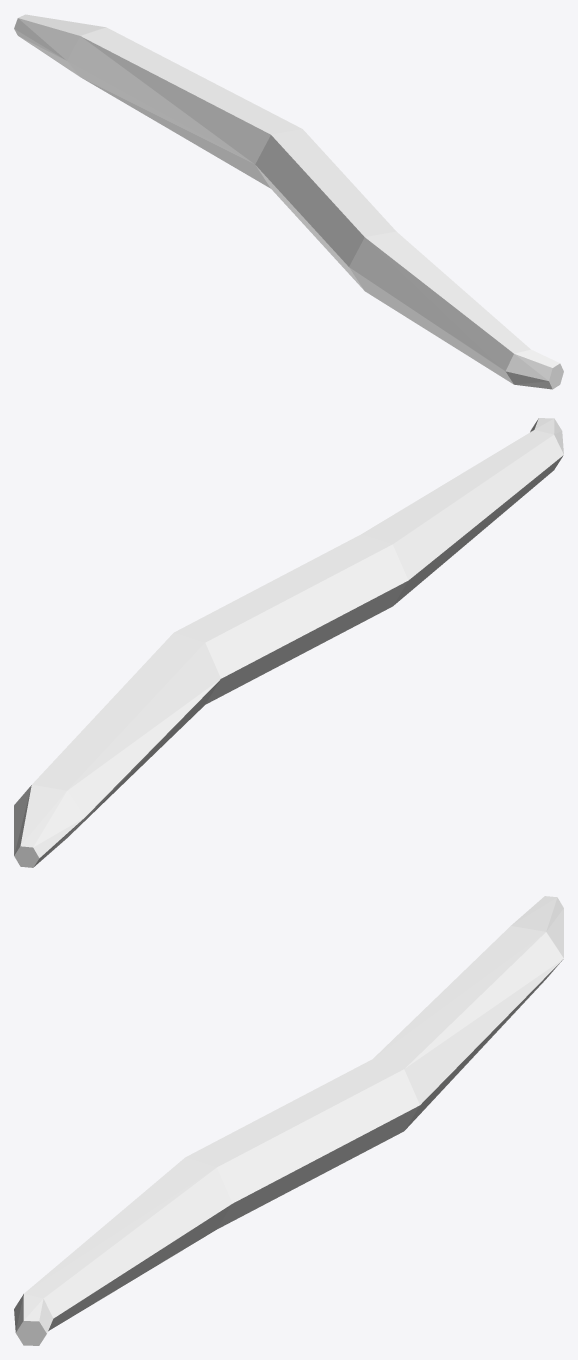
File: Crop_Bean_02.glb
The picture shows the model from 3 angles, top to bottom: view 1: azimuth 30°, elevation 25°; view 2: azimuth 150°, elevation 25°; view 3: azimuth 330°, elevation 25°; orthographic projection. The views are drawn at different scales.
Parts seen in each view (by area): view 1: Crop_Bean_02; view 2: Crop_Bean_02; view 3: Crop_Bean_02.
Boxes of the visible parts, x1,y1,x2,y2 form: Crop_Bean_02: (14,14,563,389); Crop_Bean_02: (14,418,563,867); Crop_Bean_02: (14,896,563,1345).
Size of the model in its own units: 0.0249 by 0.0128 by 0.2136.
1 material, 1 textured.
